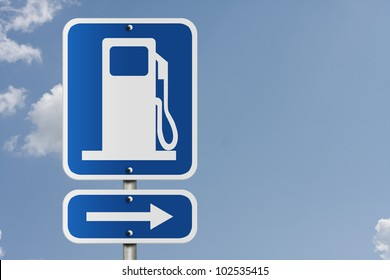fuel-station: (65, 20, 191, 177)
right turn: (69, 196, 190, 238)
